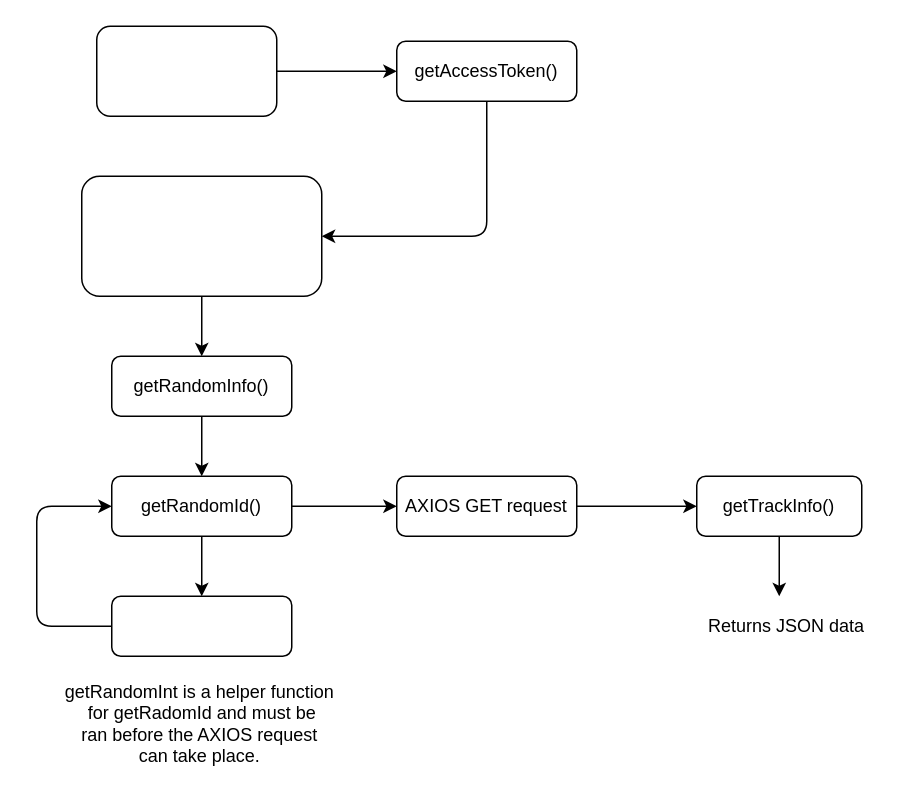
This 903x803 diagram has some shape labels left out. Each missing label, with the box of its shape:
getRandomInt(): (110, 595, 292, 656)
root index ("/"): (95, 25, 277, 116)
Select Route: ("/track", "/album", "/artist"): (80, 175, 322, 296)
